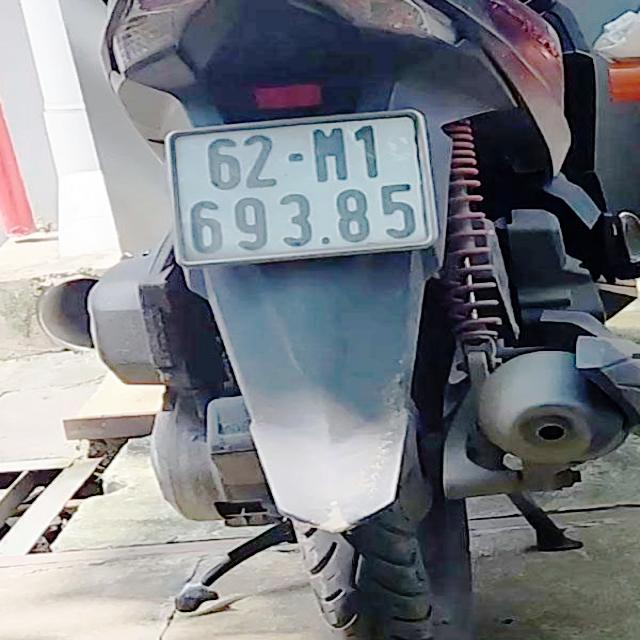license_plate: (165, 110, 437, 268)
